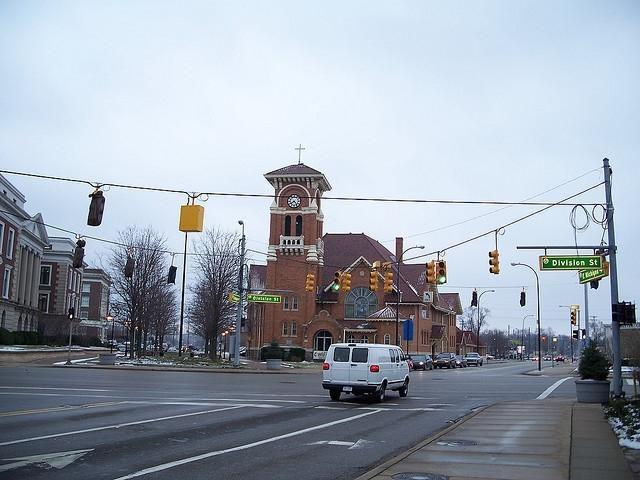car: (320, 341, 410, 404), (433, 352, 457, 370), (410, 354, 434, 371), (464, 352, 484, 366), (116, 345, 125, 352), (544, 356, 552, 361), (531, 356, 539, 361), (168, 347, 176, 352)
